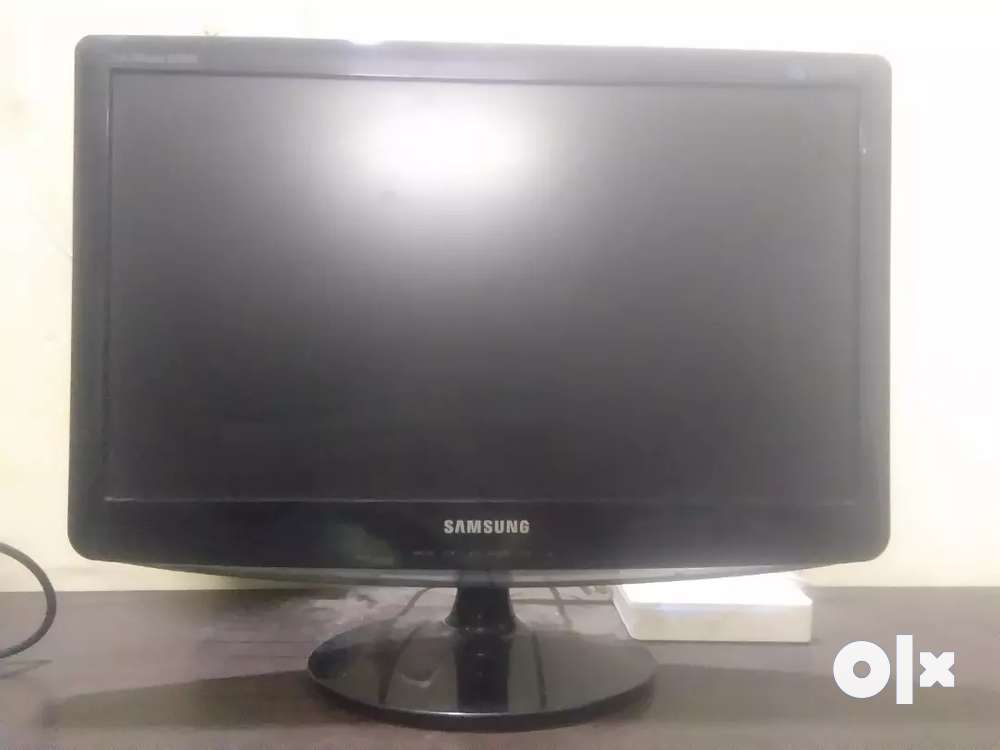samsung-monitor-b2030: (65, 40, 901, 724)
